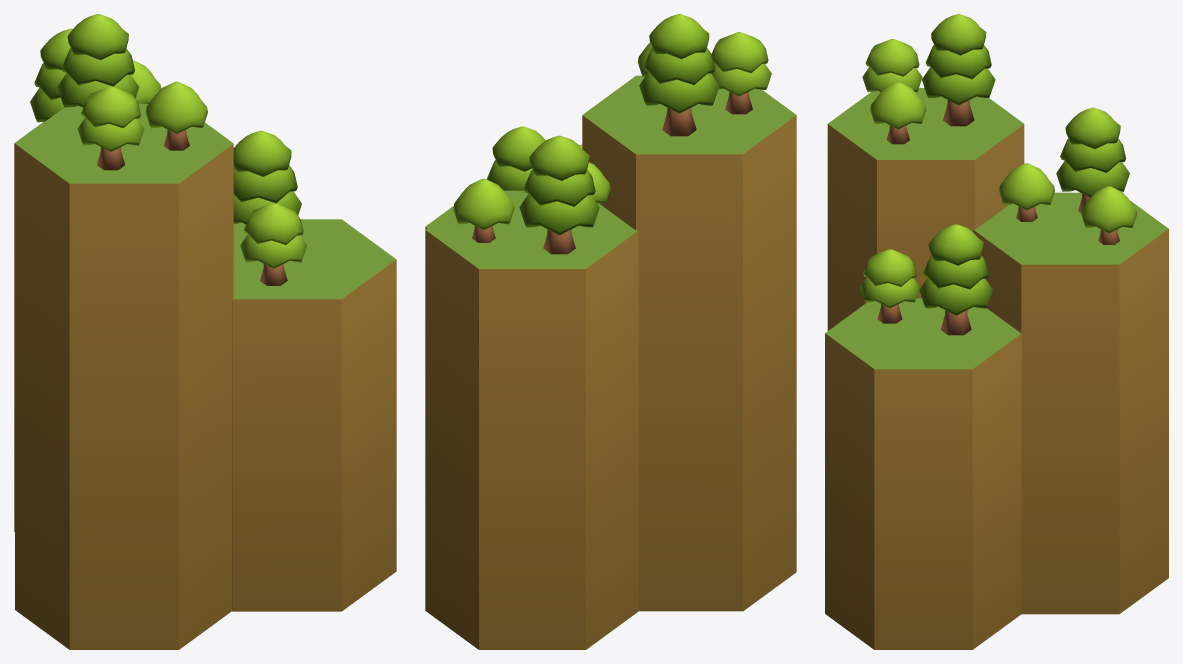
The picture shows the model from 3 angles, left to right: view 1: azimuth 30°, elevation 25°; view 2: azimuth 150°, elevation 25°; view 3: azimuth 270°, elevation 25°; orthographic projection. The views are drawn at different scales.
Parts seen in each view (by area): view 1: Circle.047, Circle.045, pine3.007, pine3.005, pine2.010, pine2.008, pine1.010, pine3.006, pine1.008; view 2: Circle.046, Circle.047, pine3.007, pine3.006, pine2.010, pine1.008, pine3.005, pine1.009; view 3: Circle.045, Circle.046, Circle.047, pine3.007, pine3.005, pine3.006, pine2.008, pine2.010, pine1.010, pine1.009, pine1.008.
Boxes of the visible parts, bbox=[...] form: Circle.047: bbox=[15, 103, 233, 649]; Circle.045: bbox=[232, 219, 396, 611]; pine3.007: bbox=[57, 14, 139, 107]; pine3.005: bbox=[233, 130, 301, 224]; pine2.010: bbox=[77, 86, 144, 170]; pine2.008: bbox=[240, 203, 307, 285]; pine1.010: bbox=[145, 81, 207, 150]; pine3.006: bbox=[30, 28, 72, 122]; pine1.008: bbox=[131, 60, 161, 103]; Circle.046: bbox=[425, 190, 638, 649]; Circle.047: bbox=[582, 75, 796, 611]; pine3.007: bbox=[639, 14, 719, 136]; pine3.006: bbox=[519, 135, 599, 254]; pine2.010: bbox=[711, 32, 771, 114]; pine1.008: bbox=[453, 178, 514, 242]; pine3.005: bbox=[487, 126, 545, 190]; pine1.009: bbox=[587, 162, 610, 203]; Circle.045: bbox=[825, 298, 1021, 649]; Circle.046: bbox=[973, 192, 1168, 614]; Circle.047: bbox=[827, 88, 1024, 330]; pine3.007: bbox=[922, 14, 995, 126]; pine3.005: bbox=[919, 224, 992, 335]; pine3.006: bbox=[1056, 107, 1129, 212]; pine2.008: bbox=[860, 249, 919, 323]; pine2.010: bbox=[862, 39, 922, 92]; pine1.010: bbox=[870, 82, 926, 144]; pine1.009: bbox=[999, 163, 1054, 221]; pine1.008: bbox=[1081, 186, 1137, 244].
Size of the model in its own units: 4.36 by 7.47 by 4.44.
Materials: 1 (1 with a texture image).
